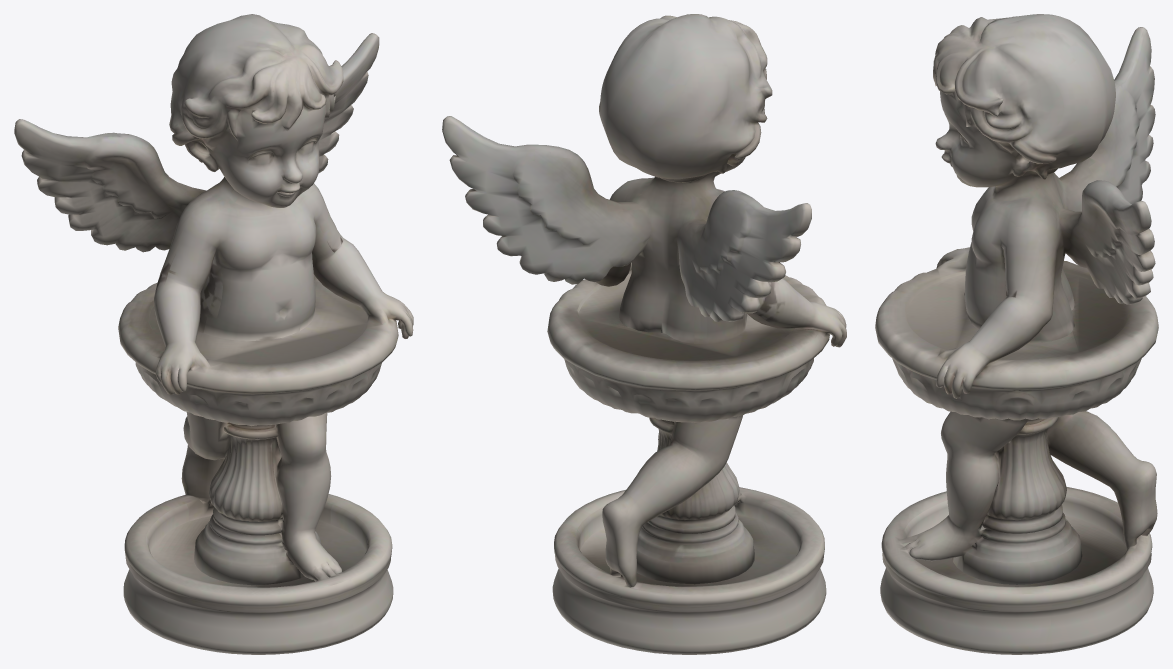
Rendered from Outdoor__cherub_fountain_8d21b49f_v3.cluster.glb.
3 views of the same model, side by side, from view 1: azimuth 30°, elevation 25°; view 2: azimuth 150°, elevation 25°; view 3: azimuth 270°, elevation 25° (orthographic).
Parts seen in each view (by area): view 1: mesh_input; view 2: mesh_input; view 3: mesh_input.
Boxes of the visible parts, <box> form: mesh_input: <box>14,14,413,654</box>; mesh_input: <box>442,14,846,654</box>; mesh_input: <box>875,14,1158,654</box>.
Bounding box in the file's own units: 1.27 × 1.9 × 0.8437.
1 material, 1 textured.
